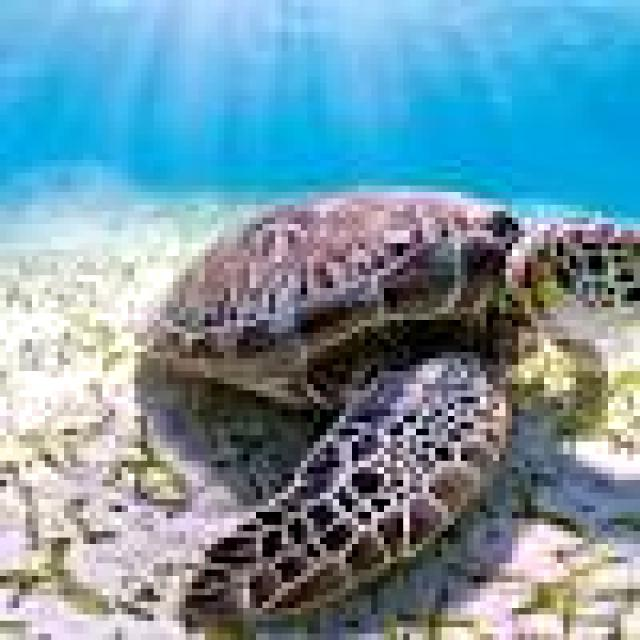Sea turtle: (133, 168, 640, 640)
